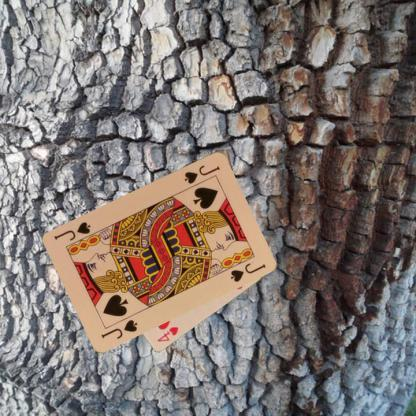4h: (155, 324, 180, 342)
Js: (98, 316, 139, 340), (182, 162, 222, 185)
